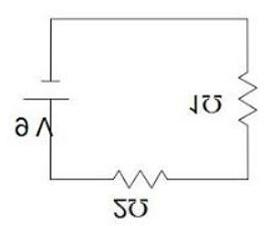resistor: (102, 158, 179, 192), (229, 60, 259, 136)
